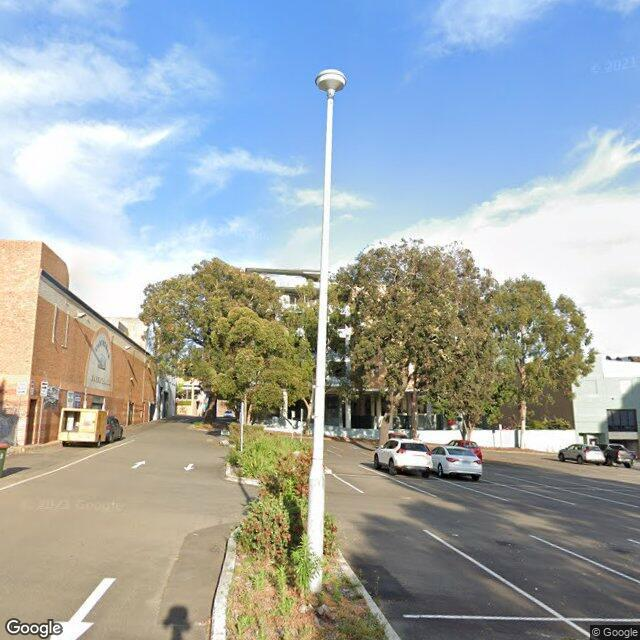steel-pole: (304, 97, 336, 596)
